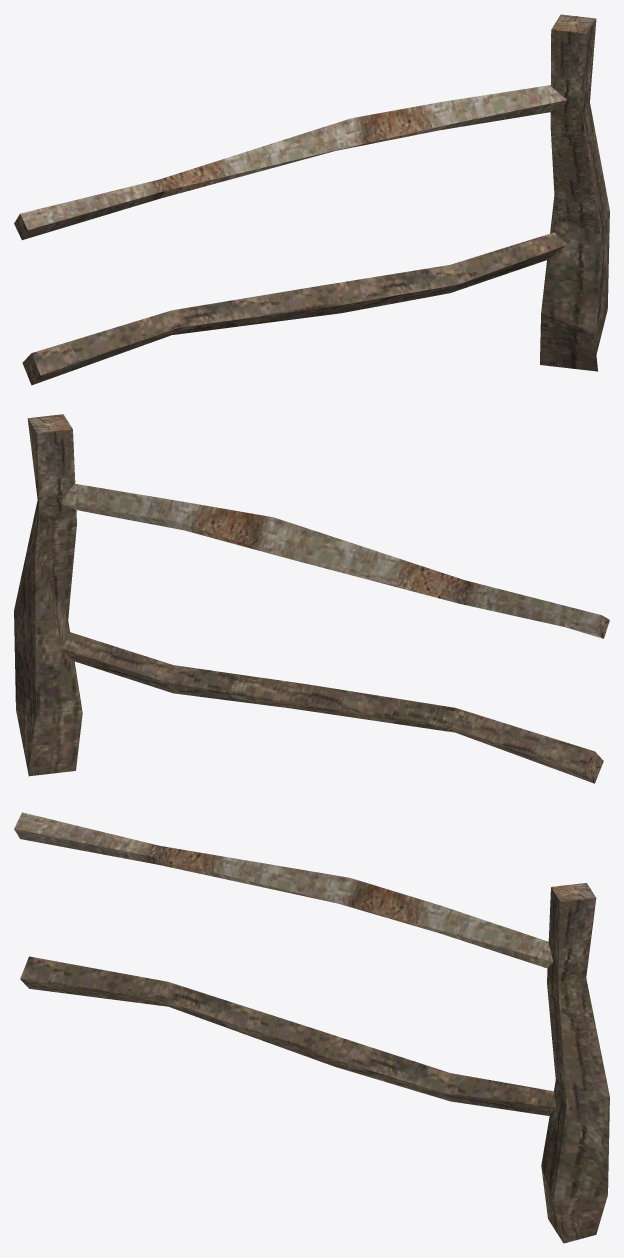
Rendered from lf_wooden_fence_open_b.glb.
3 views of the same model, one above another, from view 1: azimuth 30°, elevation 25°; view 2: azimuth 150°, elevation 25°; view 3: azimuth 330°, elevation 25° (orthographic).
Parts seen in each view (by area): view 1: wooden_fence_open_alt; view 2: wooden_fence_open_alt; view 3: wooden_fence_open_alt.
Part boxes in pixels (x1,y1,x2,y2): wooden_fence_open_alt: (14, 14, 609, 385); wooden_fence_open_alt: (14, 414, 609, 783); wooden_fence_open_alt: (14, 812, 609, 1243).
Size of the model in its own units: 2.19 by 1.2 by 0.2663.
Materials: 1 (1 with a texture image).
